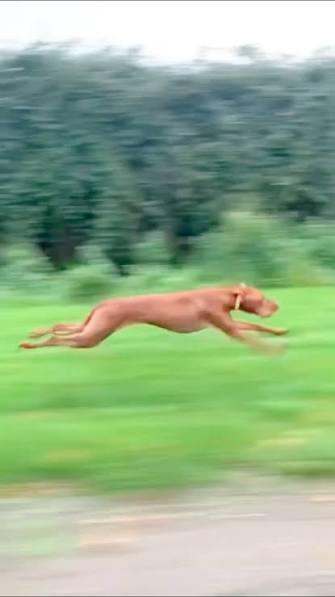adult_dog: (16, 279, 292, 354)
